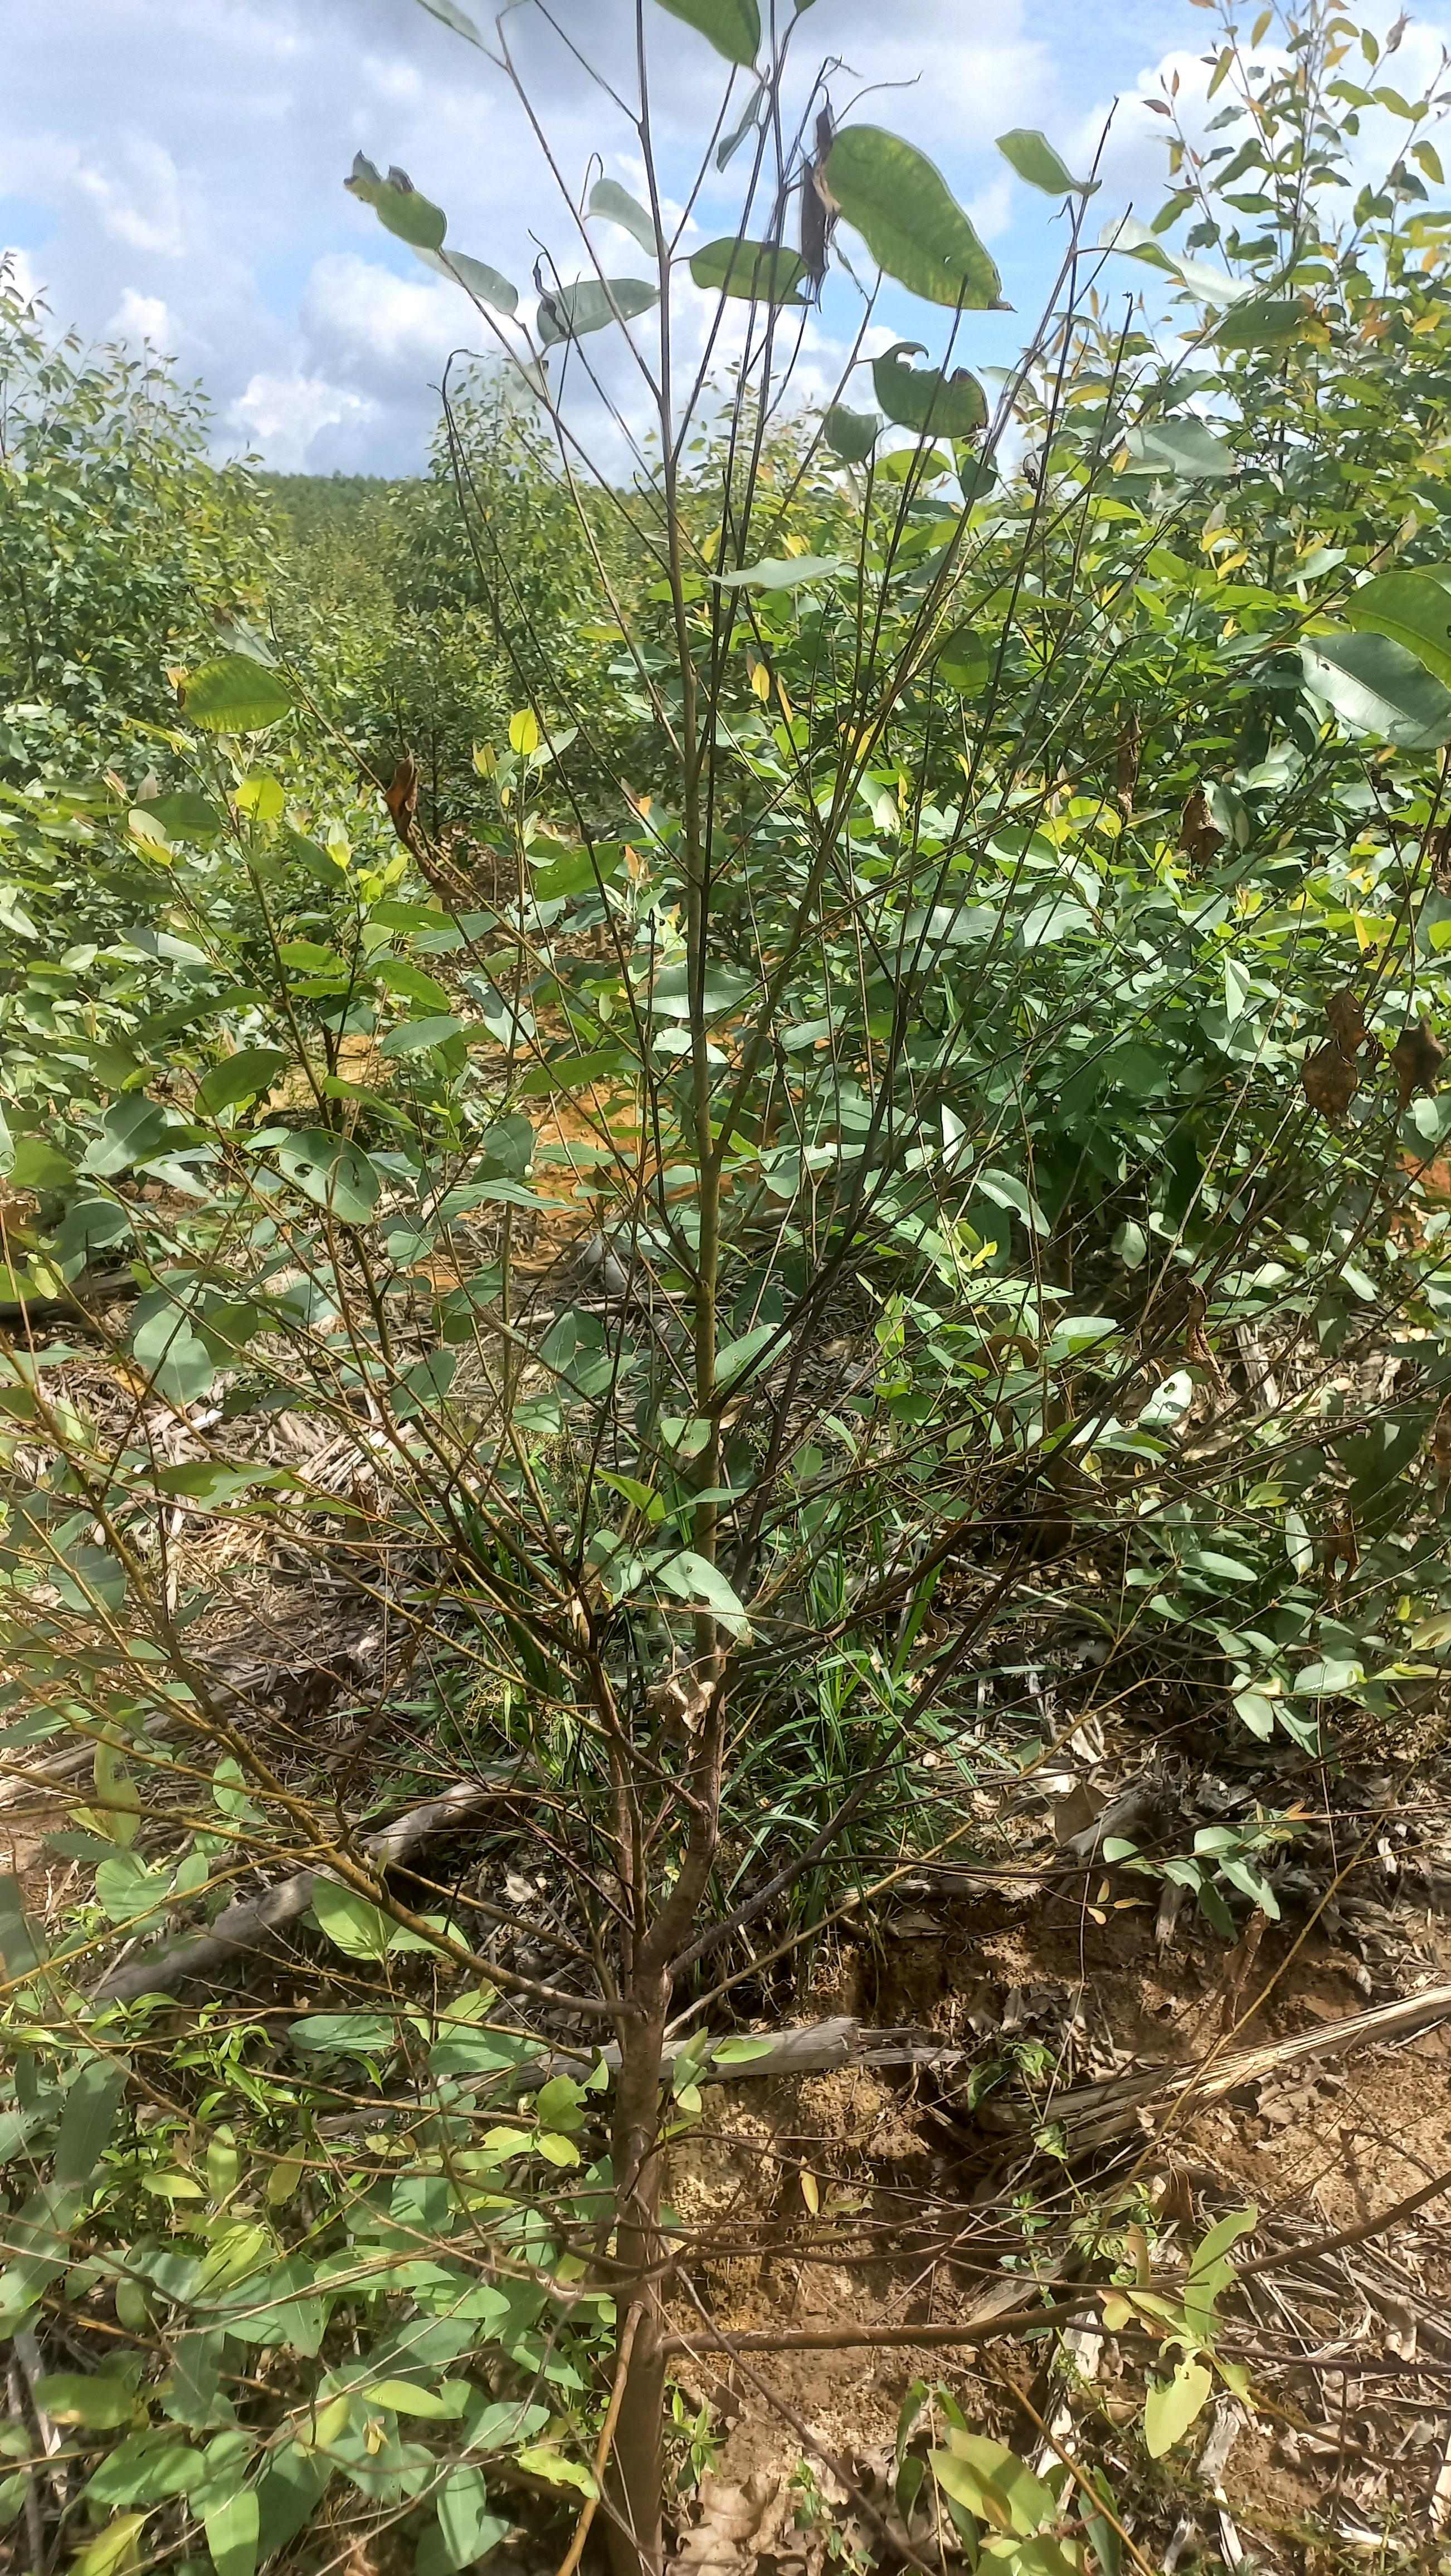Helopeltis-Withered Sprout: (1278, 954, 1451, 1136), (377, 764, 471, 924), (1295, 1454, 1387, 1589), (635, 1626, 727, 1753), (800, 73, 848, 311), (1025, 1760, 1127, 1867), (522, 1568, 618, 1668), (1163, 773, 1246, 885), (1099, 706, 1157, 835), (1338, 285, 1400, 357), (1019, 409, 1063, 495)
